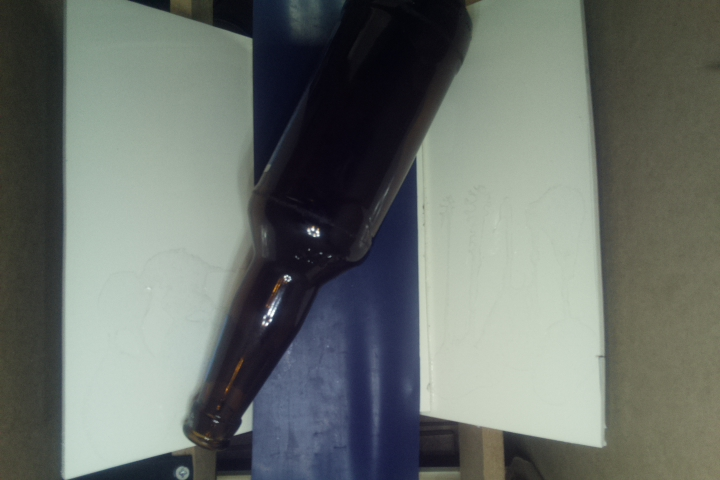makju: (179, 1, 476, 452)
